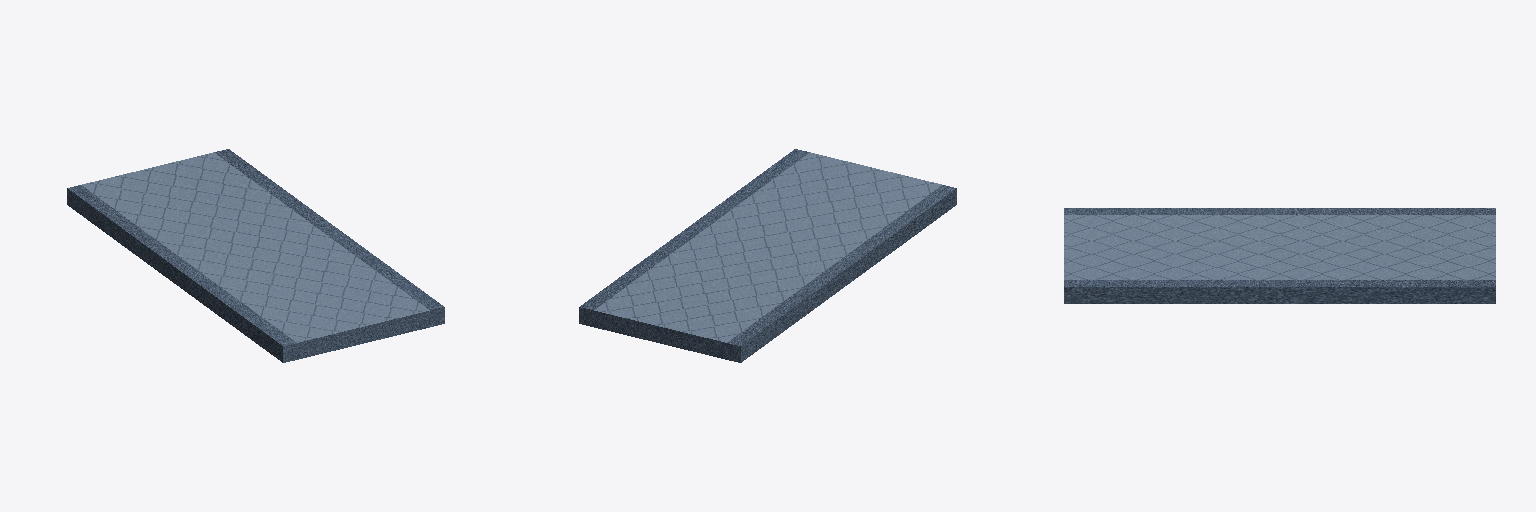
The picture shows the model from 3 angles: view 1: azimuth 30°, elevation 25°; view 2: azimuth 150°, elevation 25°; view 3: azimuth 270°, elevation 25°; orthographic projection.
Visible parts, largest first — view 1: 立方体.044_立方体.015; view 2: 立方体.044_立方体.015; view 3: 立方体.044_立方体.015.
Part boxes in pixels (bbox=[...]): 立方体.044_立方体.015: bbox=[67, 149, 444, 362]; 立方体.044_立方体.015: bbox=[579, 149, 956, 362]; 立方体.044_立方体.015: bbox=[1064, 208, 1495, 303].
Bounding box in the file's own units: 2 × 0.2 × 4.64.
Materials: 1 (1 with a texture image).